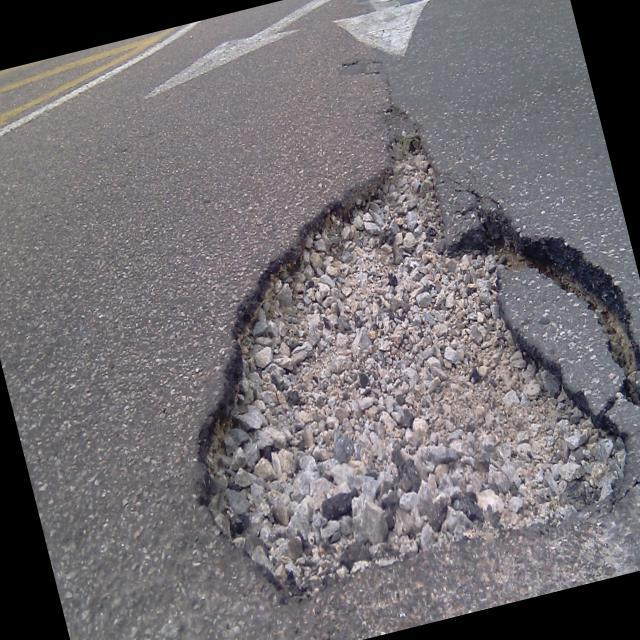Pothole: (119, 71, 640, 640)
